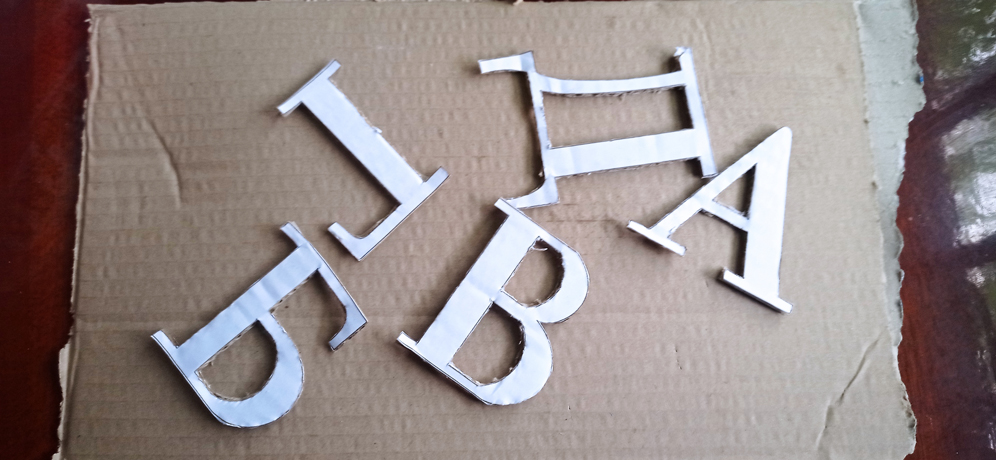a: (627, 124, 794, 316)
b: (150, 223, 369, 429)
d: (477, 44, 716, 208)
g: (276, 56, 450, 262)
v: (394, 196, 589, 406)
